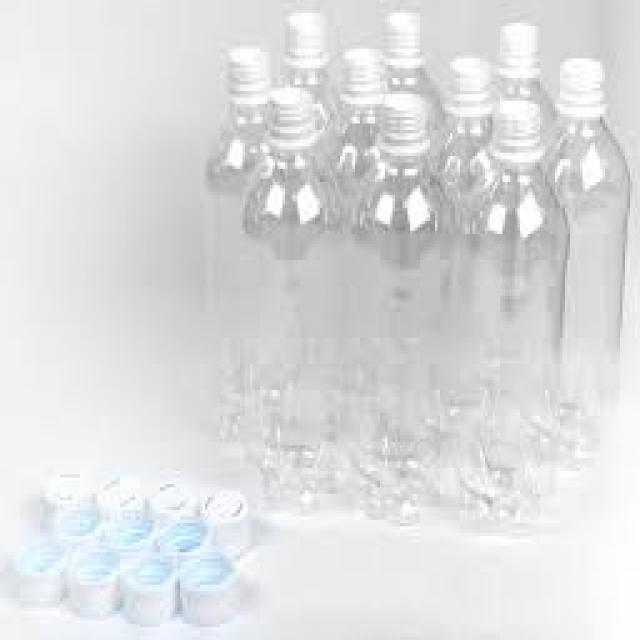Plastic: (462, 101, 574, 535), (350, 92, 460, 526), (245, 84, 347, 514), (546, 61, 636, 468), (208, 45, 272, 446), (180, 546, 240, 622), (119, 550, 176, 626), (10, 532, 70, 604), (40, 459, 94, 528), (67, 544, 118, 612), (96, 464, 148, 526), (200, 485, 252, 543), (104, 503, 156, 553), (155, 512, 214, 556), (50, 502, 105, 549), (153, 477, 196, 523)
